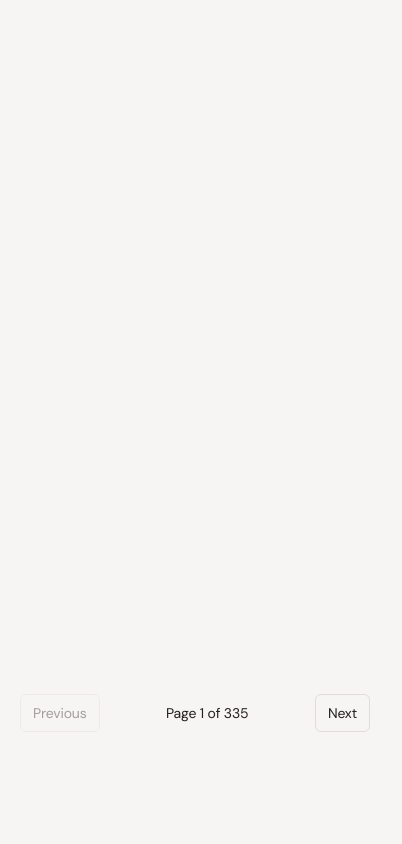
Test case: pages the catalog and searches beyond the first page
(page scrolled)
Click the button "Next" at coordinates (342, 712), box [315,694,370,732]
(page scrolled)
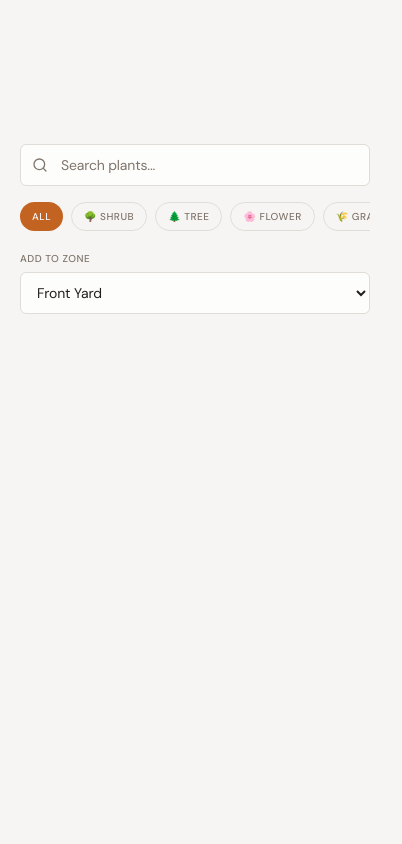
Type "Geranium wislizeni" into the field named "Search by common or scientific name" at coordinates (195, 165), box [20,144,370,186]
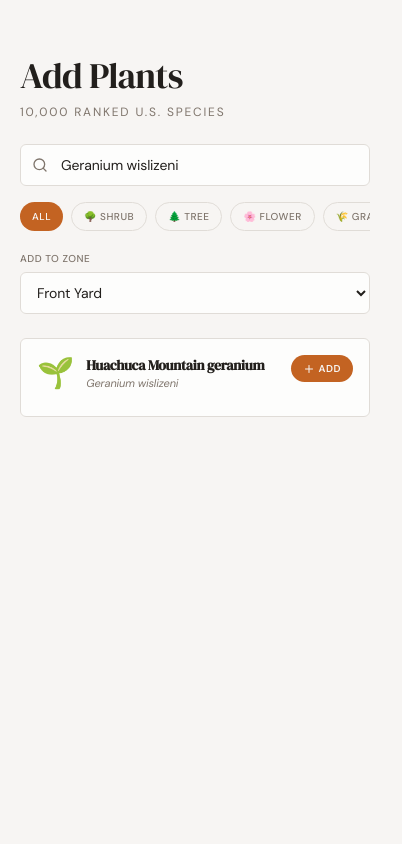
Check: the text "Geranium wislizeni" is shown, box [86,376,178,390]
Check: the number of buttons "Add" is 1, box [290,355,353,382]
